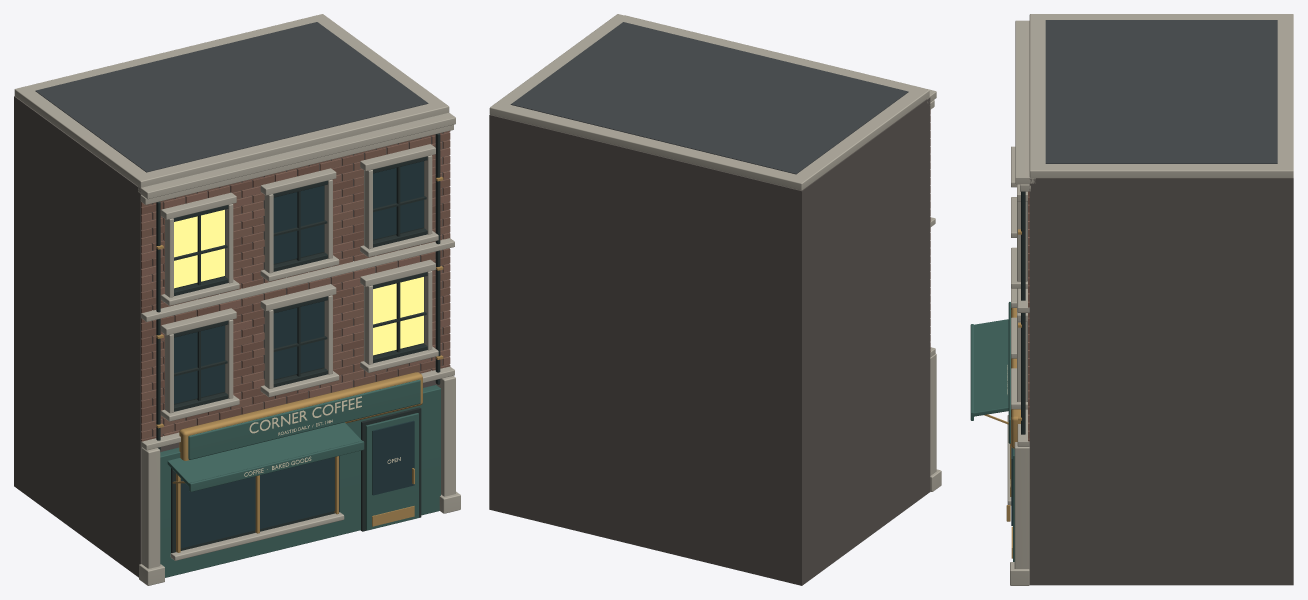
File: corner-coffee.glb
The picture shows the model from 3 angles, left to right: view 1: azimuth 30°, elevation 25°; view 2: azimuth 150°, elevation 25°; view 3: azimuth 270°, elevation 25°; orthographic projection. The views are drawn at different scales.
Visible parts, largest first — view 1: Existing envelope, Cafe Warm limestone, Cafe Roof membrane, Cafe Opaque dark glazing, Cafe Coffee enamel, Cafe Charcoal painted metal, Roof cap, Cafe Brick tone 0, Cafe Brick tone 3, Cafe Warm occupied window, Sign enamel inset, Cafe Brick tone 4 (+5 smaller); view 2: Existing envelope, Cafe Roof membrane, Roof cap, Cafe Warm limestone; view 3: Existing envelope, Cafe Roof membrane, Roof cap, Cafe Warm limestone, Cafe Coffee enamel, Cafe Charcoal painted metal, Sign enamel inset.
Part boxes in pixels (<box>): Existing envelope: <box>14,96,449,577</box>; Cafe Warm limestone: <box>138,113,460,585</box>; Cafe Roof membrane: <box>35,22,428,172</box>; Cafe Opaque dark glazing: <box>174,161,423,548</box>; Cafe Coffee enamel: <box>160,385,440,577</box>; Cafe Charcoal painted metal: <box>156,133,440,552</box>; Roof cap: <box>14,14,449,187</box>; Cafe Brick tone 0: <box>141,138,450,441</box>; Cafe Brick tone 3: <box>141,137,450,436</box>; Cafe Warm occupied window: <box>174,209,423,355</box>; Sign enamel inset: <box>188,379,420,459</box>; Cafe Brick tone 4: <box>141,131,450,435</box>; Existing envelope: <box>489,97,930,585</box>; Cafe Roof membrane: <box>510,22,908,174</box>; Roof cap: <box>489,14,929,190</box>; Cafe Warm limestone: <box>624,15,941,491</box>; Existing envelope: <box>1029,178,1293,585</box>; Cafe Roof membrane: <box>1045,20,1277,163</box>; Roof cap: <box>1029,14,1293,178</box>; Cafe Warm limestone: <box>1007,20,1035,585</box>; Cafe Coffee enamel: <box>970,319,1014,561</box>; Cafe Charcoal painted metal: <box>1021,191,1027,434</box>; Sign enamel inset: <box>1008,302,1010,443</box>.
Bounding box in the file's own units: 7.71 × 9.36 × 6.62.
